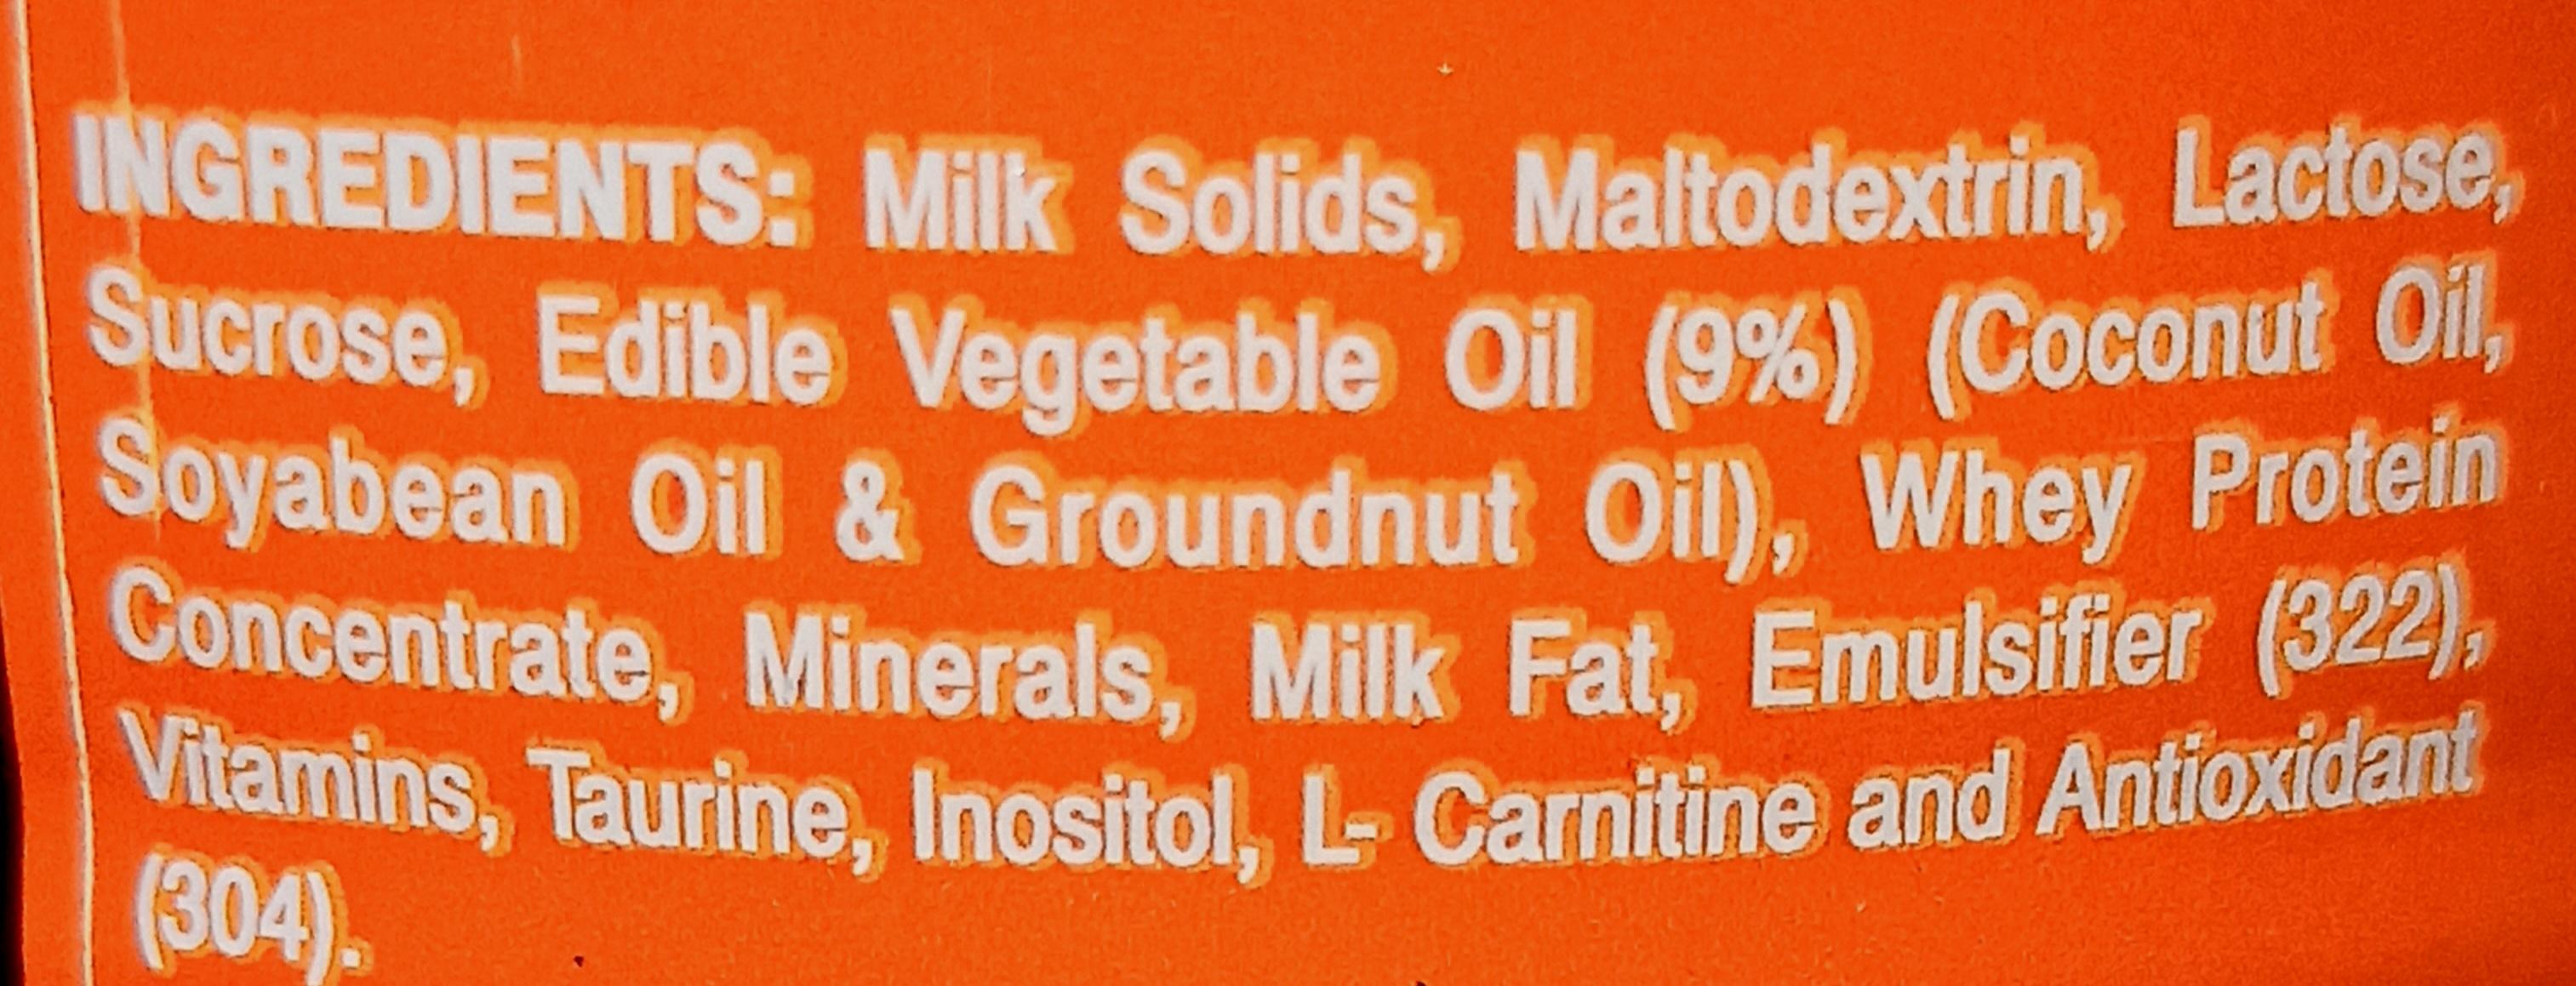ingredients: (0, 3, 2576, 986)
